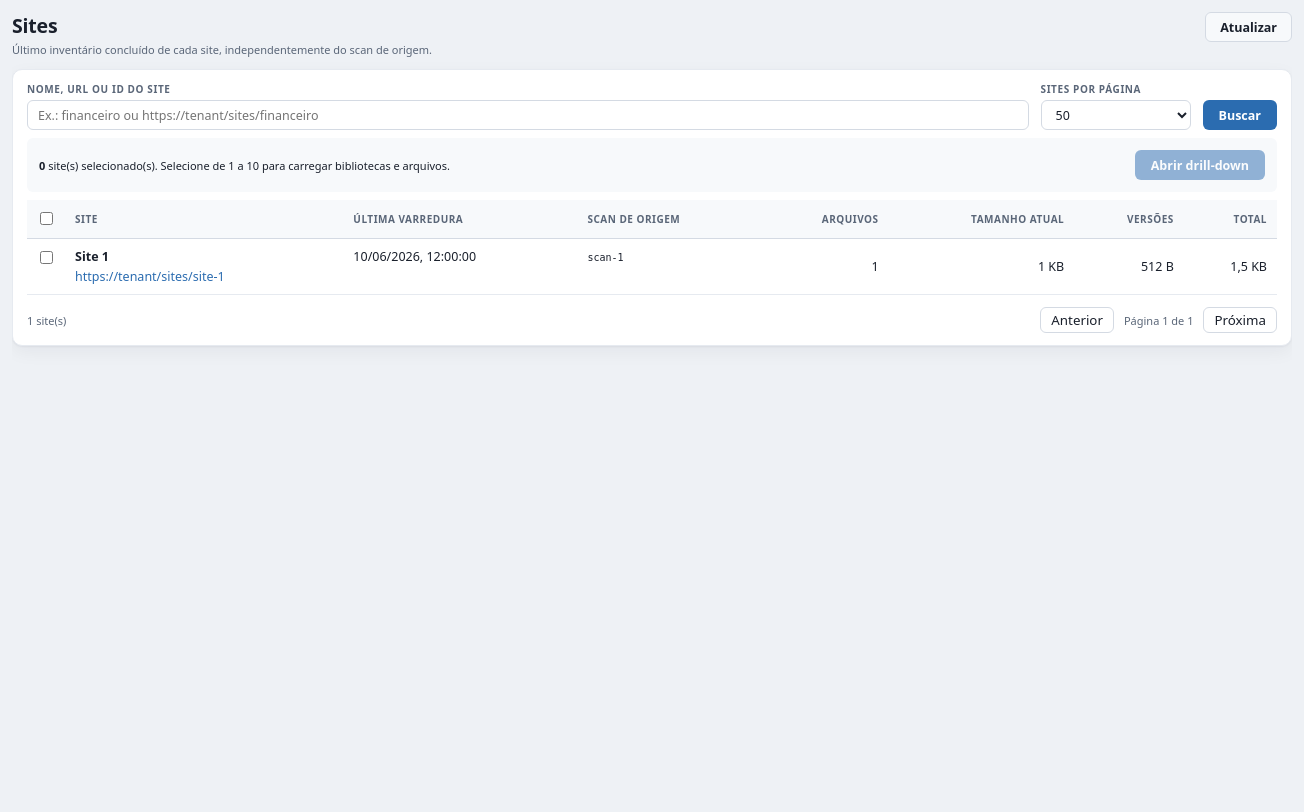
Test: SitesPage › agrega todas as páginas do site no drill-down
Expected: the text "Site 1" is shown, top-left (75, 248), bottom-right (109, 265)
Click the checkbox named "Selecionar Site 1".
click(46, 258)  # box top-left (40, 251), bottom-right (53, 264)
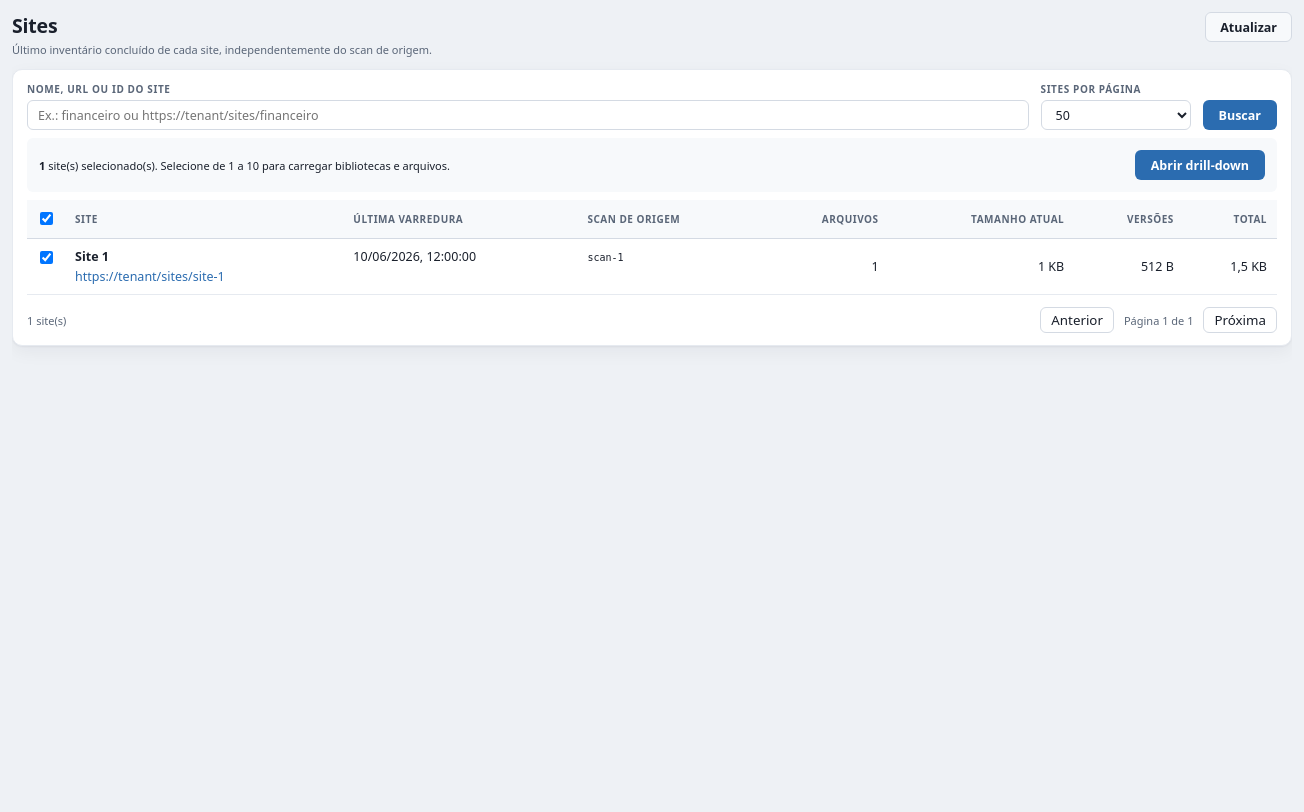
Click the button "Abrir drill-down".
click(1200, 165)  # box top-left (1135, 150), bottom-right (1265, 180)
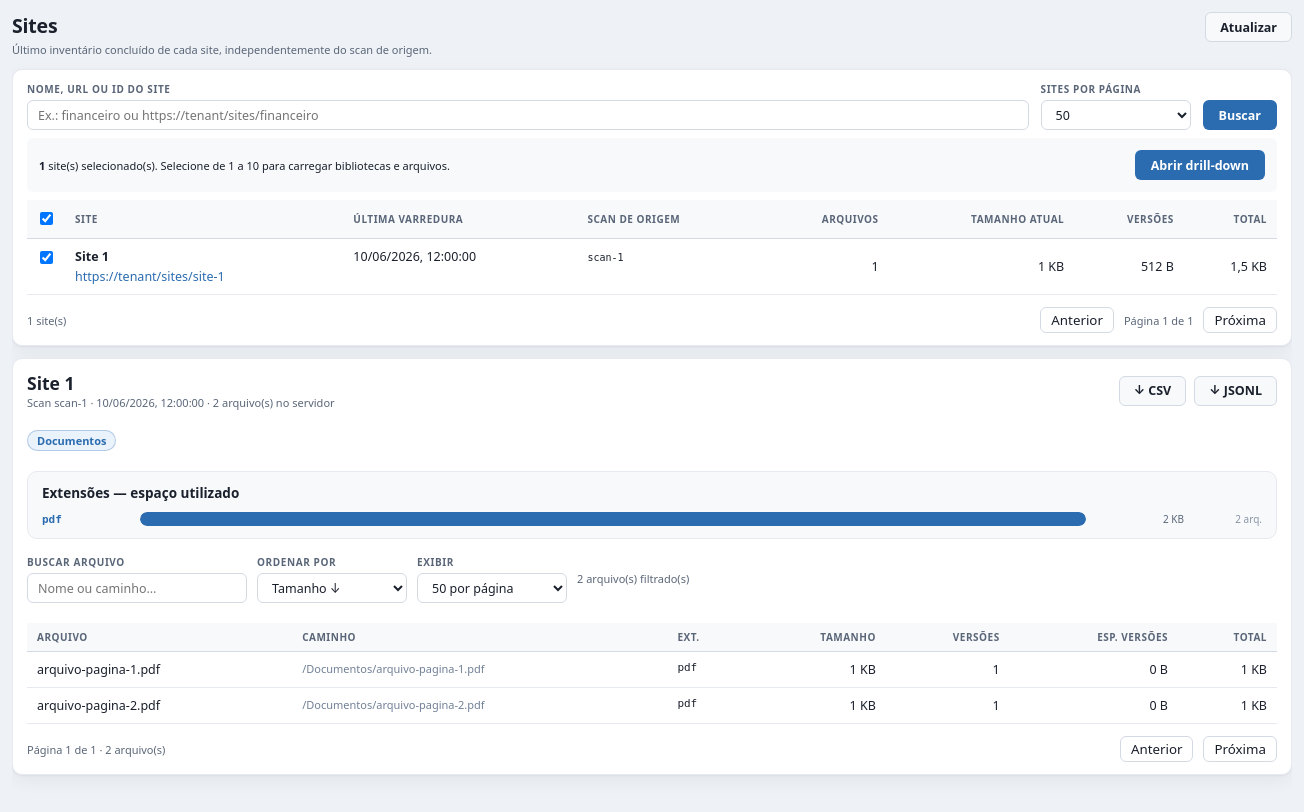
Expected: the text "arquivo-pagina-1.pdf" is shown, top-left (27, 652), bottom-right (292, 688)
Expected: the text "arquivo-pagina-2.pdf" is shown, top-left (27, 688), bottom-right (292, 724)
